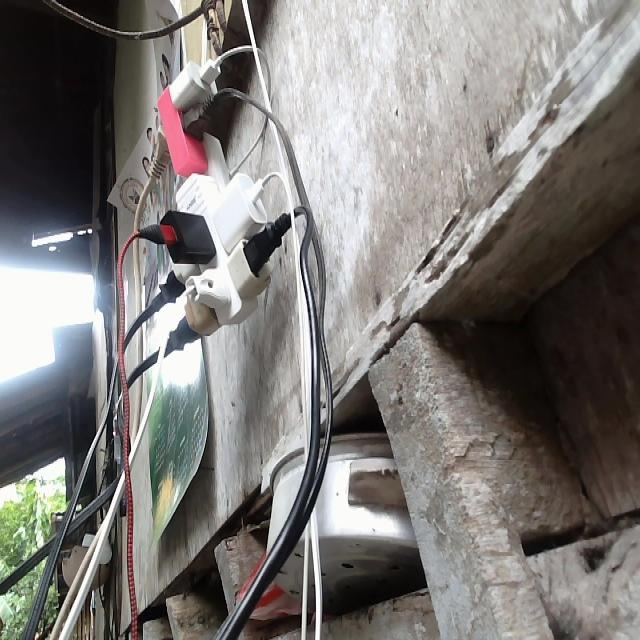-: (130, 44, 309, 343)
